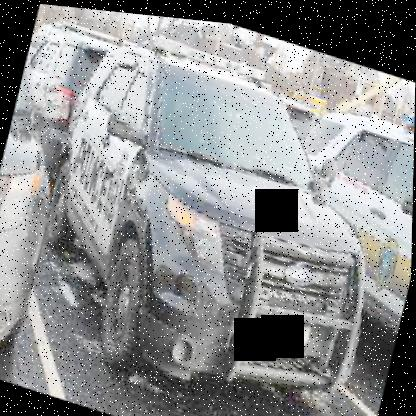emergency: (21, 12, 415, 415)
